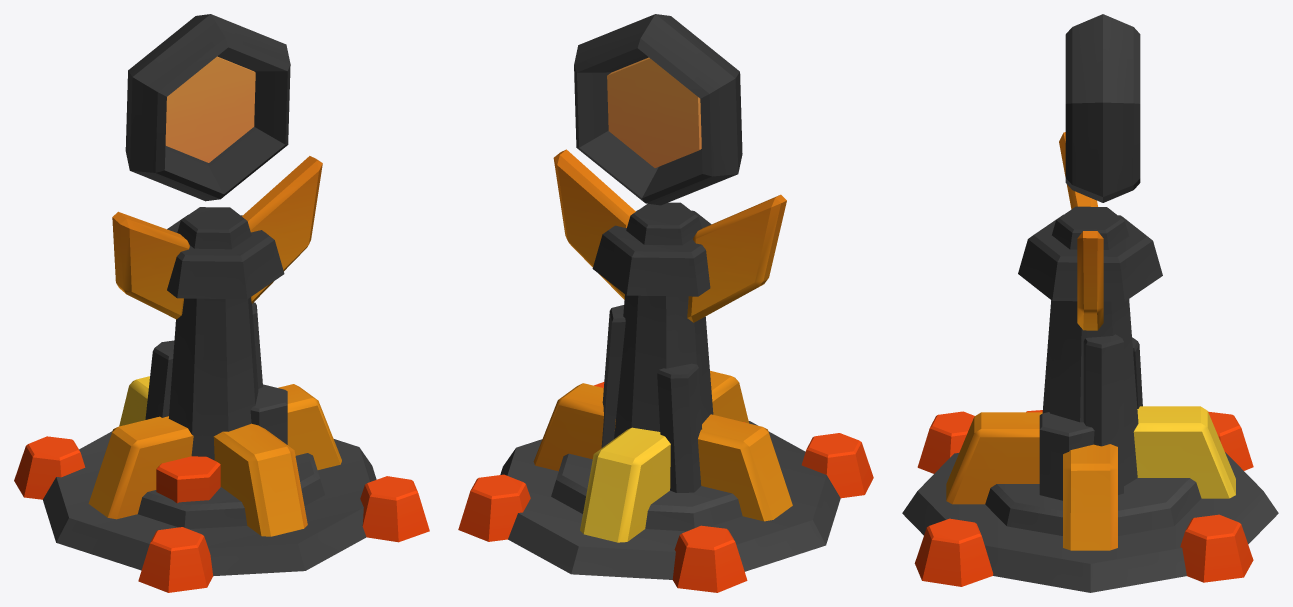
File: Magic Tower 3.fbx
3 views of the same model, side by side, from view 1: azimuth 30°, elevation 25°; view 2: azimuth 150°, elevation 25°; view 3: azimuth 270°, elevation 25° (orthographic). The views are drawn at different scales.
Visible parts, largest first — view 1: MagicTower_Lv1, Magic_Eye; view 2: MagicTower_Lv1, Magic_Eye; view 3: MagicTower_Lv1, Magic_Eye.
Part boxes in pixels (x1,y1,x2,y2): MagicTower_Lv1: [14, 156, 429, 592]; Magic_Eye: [125, 14, 290, 201]; MagicTower_Lv1: [458, 149, 873, 592]; Magic_Eye: [574, 14, 742, 205]; MagicTower_Lv1: [902, 132, 1278, 592]; Magic_Eye: [1065, 14, 1140, 202].
Bounding box in the file's own units: 1.45 × 2.15 × 1.45.
Materials: 1 (1 with a texture image).
